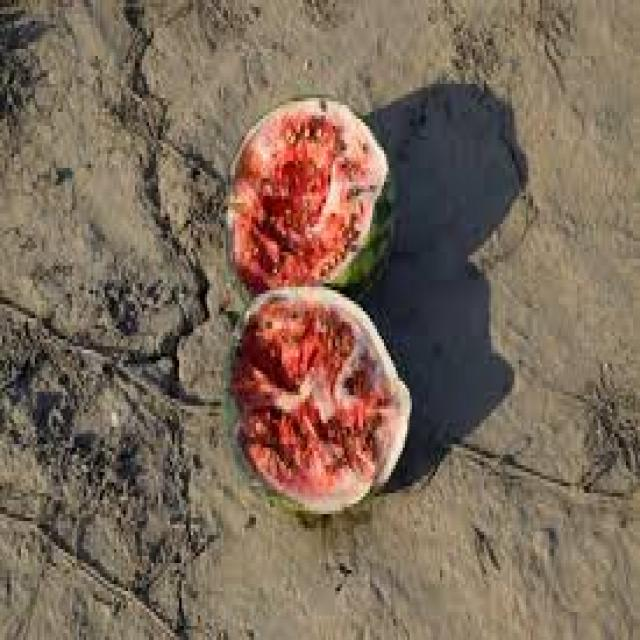organic waste: (221, 276, 410, 521), (224, 91, 394, 297)
